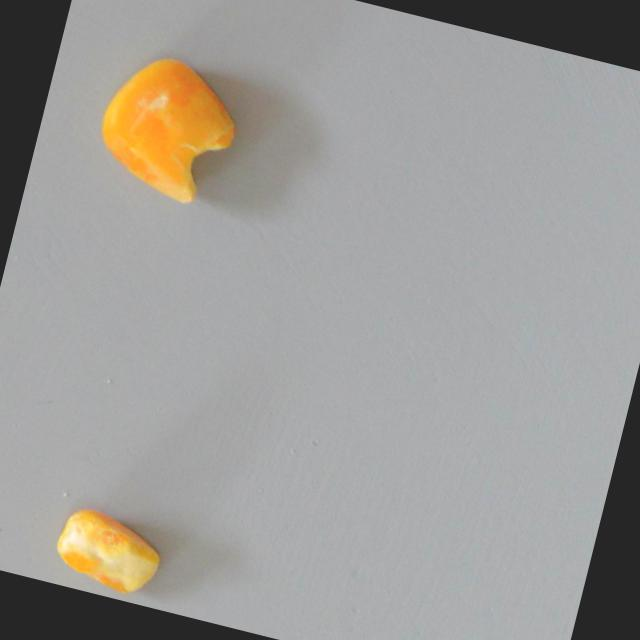pelicula: (82, 39, 250, 213), (46, 501, 170, 601)
